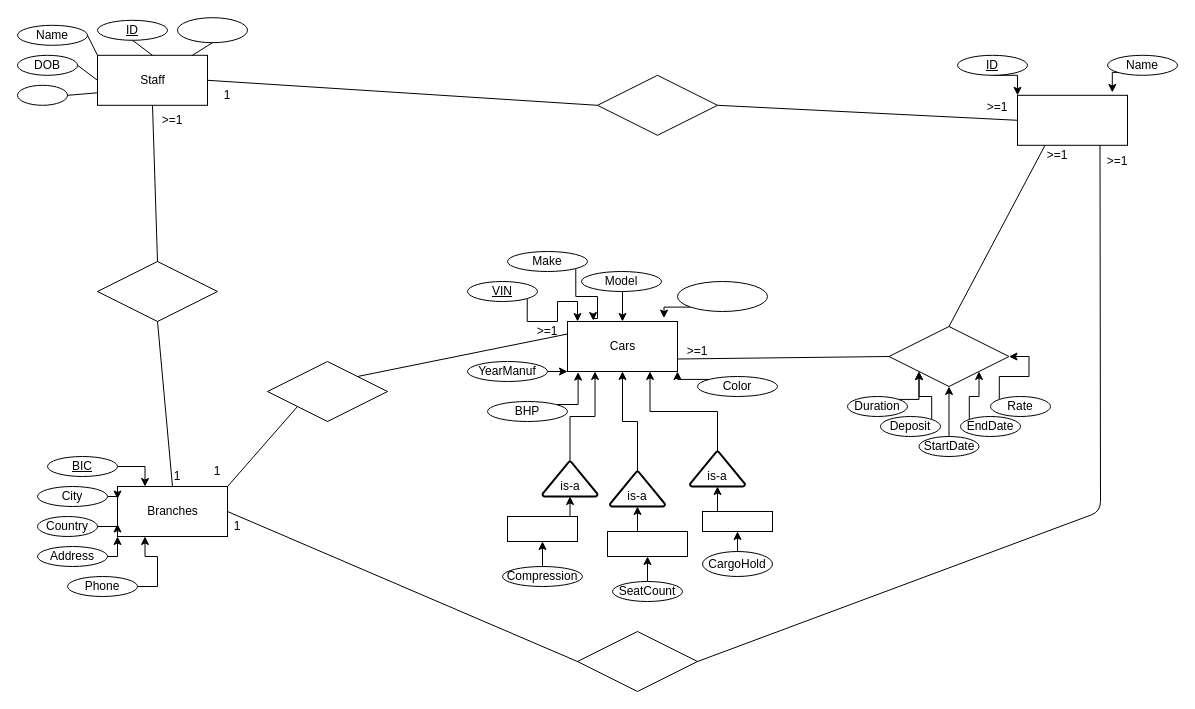
Image size: 1195x709. Some labels were removed from this diagram. Here are the shapes that lost their labels. From the top down, the centre of each, then its label:
At point (212, 30): "Salary".
At point (42, 94): "Gender".
At point (657, 104): "Services".
At point (1072, 119): "Customers".
At point (157, 291): "WorksIn".
At point (722, 296): "RegNumber".
At point (948, 356): "Rents".
At point (327, 391): "Registered".
At point (542, 529): "CatA".
At point (737, 521): "CatC".
At point (647, 543): "CatB".
At point (637, 661): "Signed".
